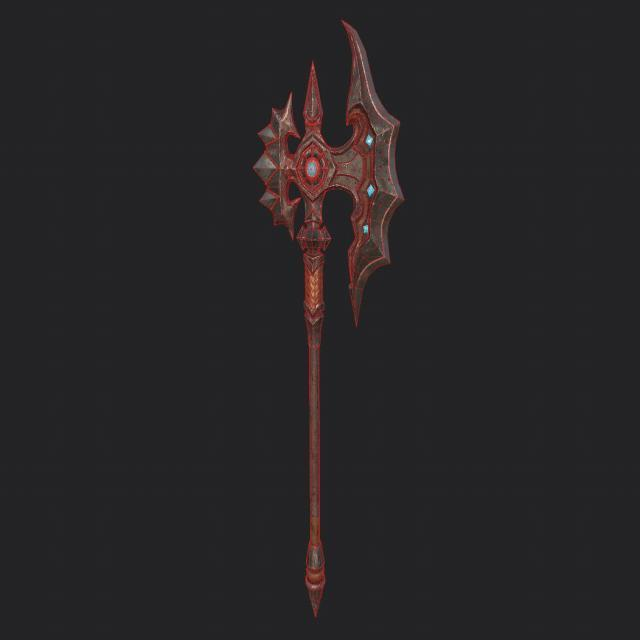axe: (252, 15, 408, 620)
